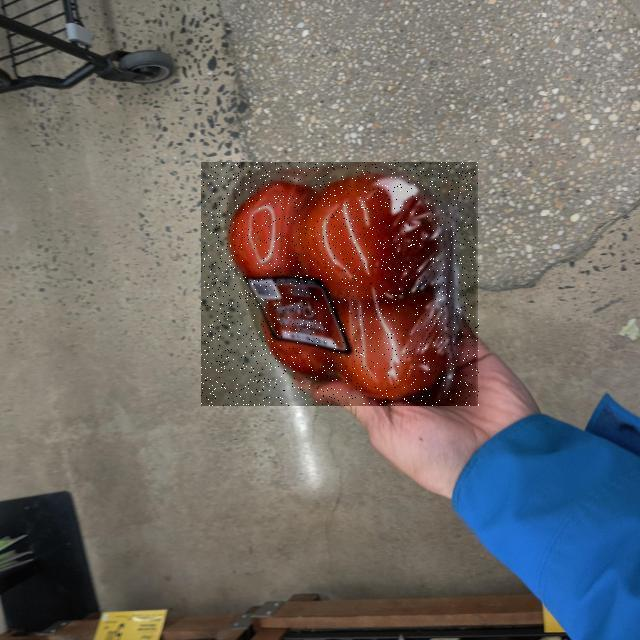Tomatoes: (202, 162, 480, 406)
